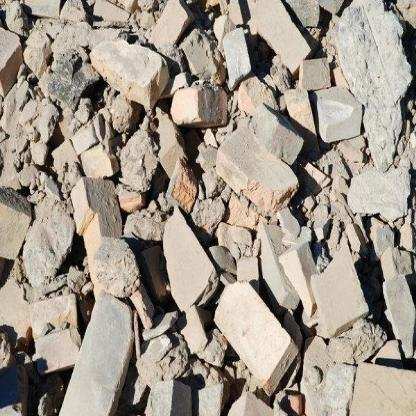brick: (1, 1, 415, 415)
